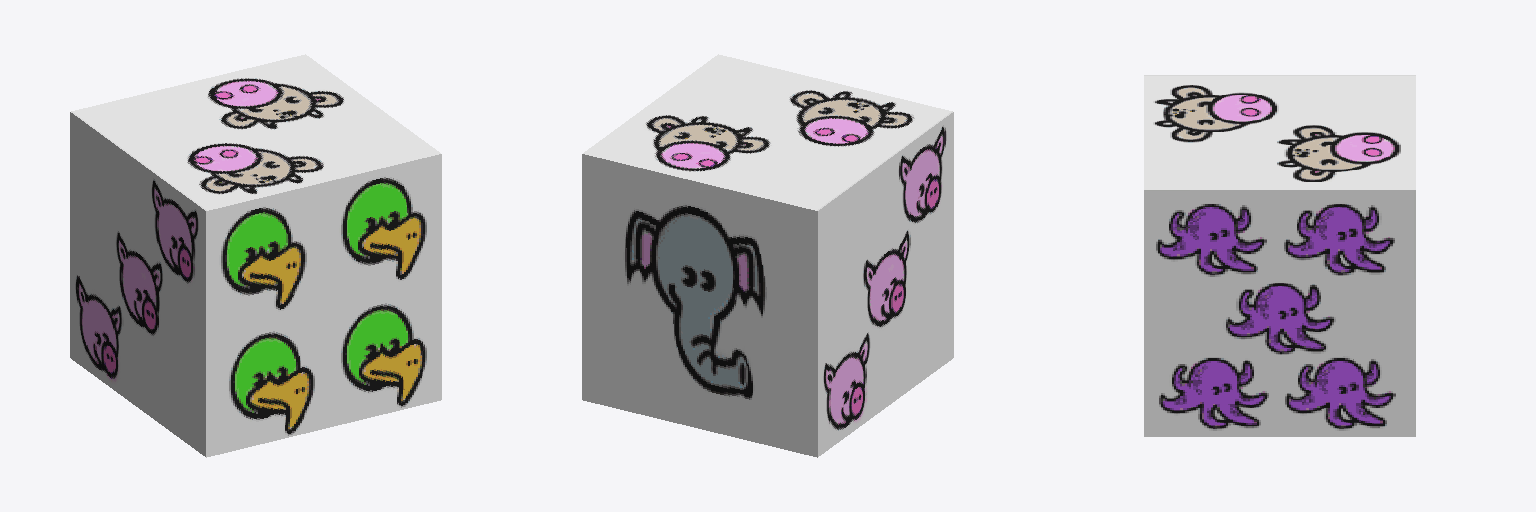
3 views of the same model, side by side, from view 1: azimuth 30°, elevation 25°; view 2: azimuth 150°, elevation 25°; view 3: azimuth 270°, elevation 25° (orthographic).
Parts seen in each view (by area): view 1: Cube; view 2: Cube; view 3: Cube.
Part boxes in pixels (bbox=[...]): Cube: bbox=[70, 54, 441, 457]; Cube: bbox=[582, 54, 953, 457]; Cube: bbox=[1144, 75, 1415, 436].
Bounding box in the file's own units: 2 × 2 × 2.
1 materials, 1 textured.